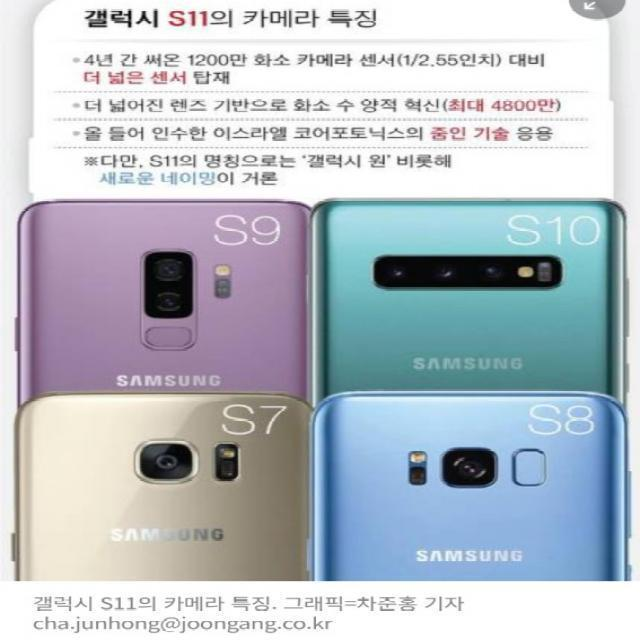phone: (311, 387, 634, 580), (14, 193, 312, 398), (11, 393, 311, 579)
